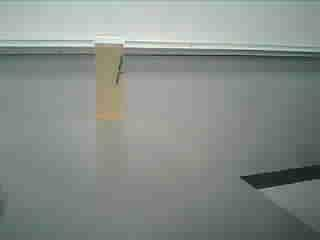Bottle A: (87, 27, 137, 130)
